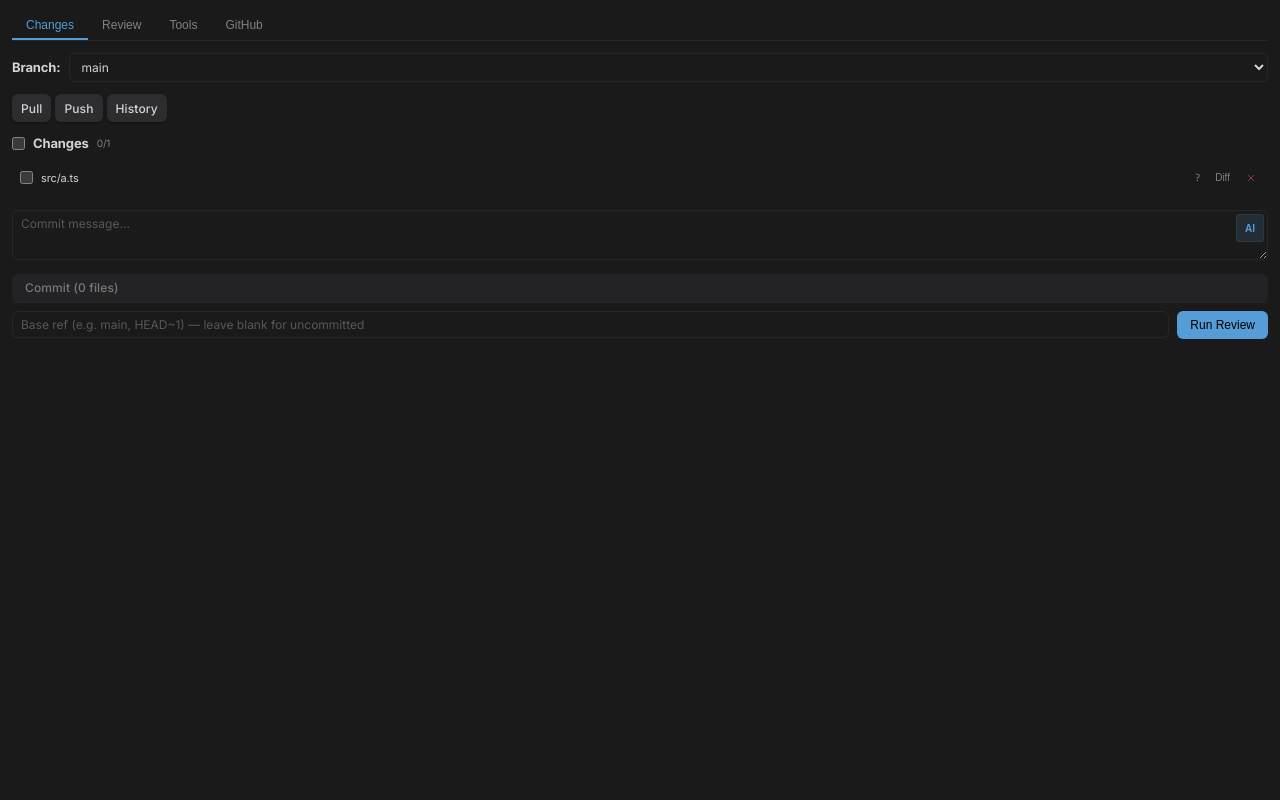
Test case: GitPanel tabs › keeps changelog input across a tab switch
Expected: the heading "Changes" is shown, [33,134,89,154]
Click the tab "Tools": [183, 26] box [155,12,211,40]
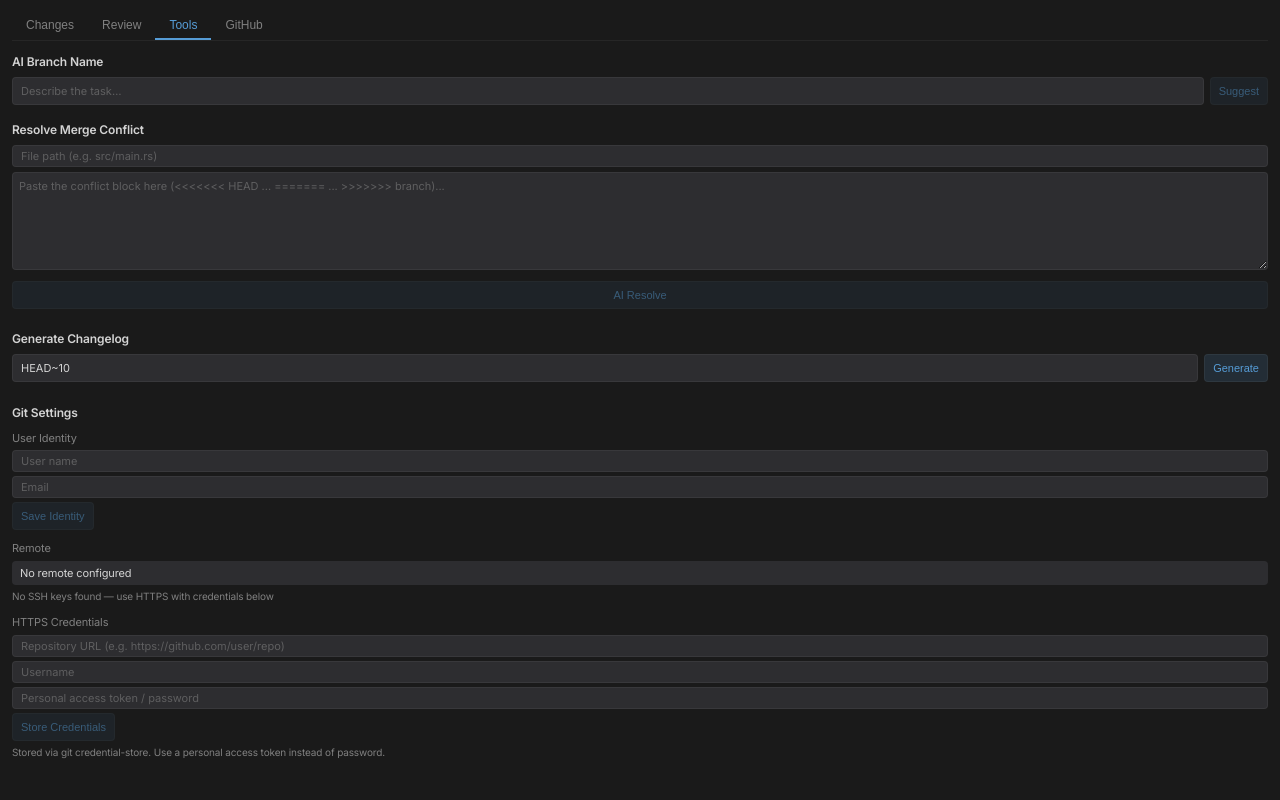
Replace the text in the field with placeholder "since (e.g. HEAD~10 or v1.2.0)" with "v1.2.0": [605, 368] box [12,354,1198,382]
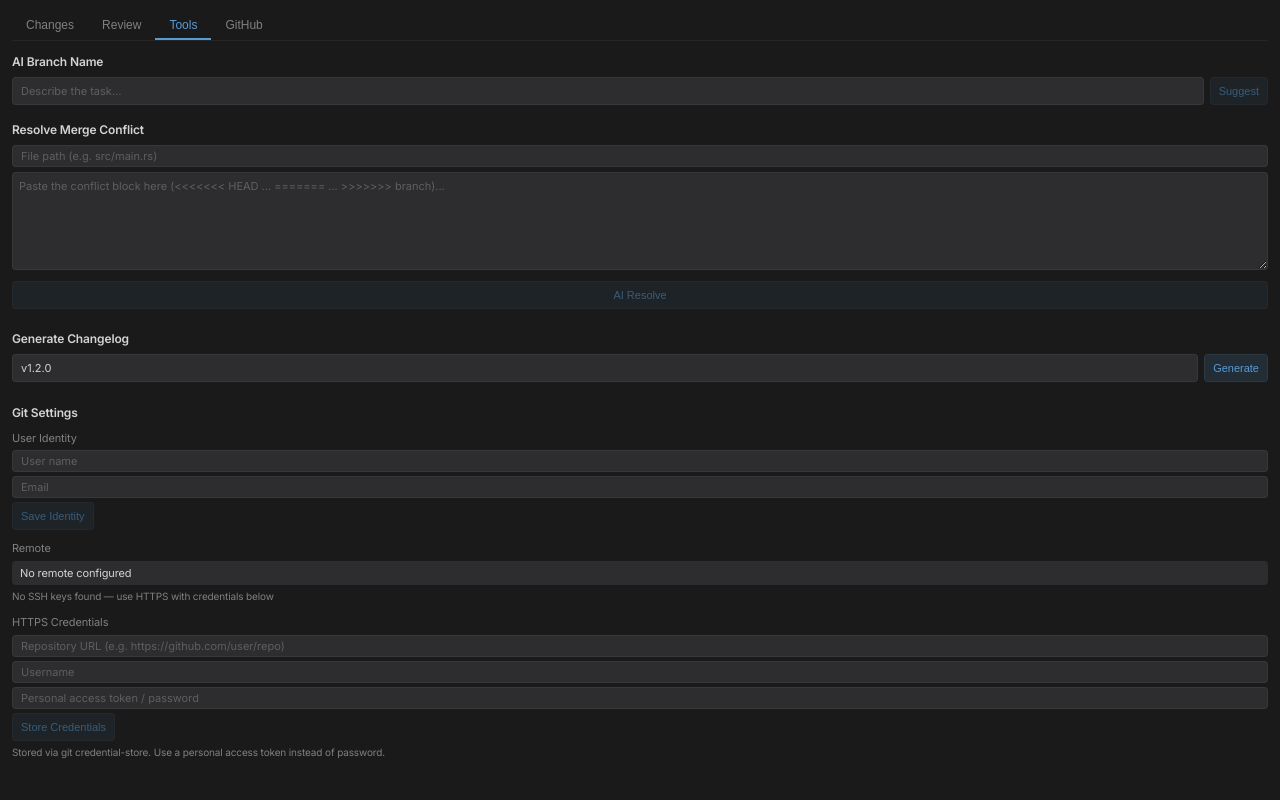
Click the tab "Changes": [50, 26] box [12,12,88,40]
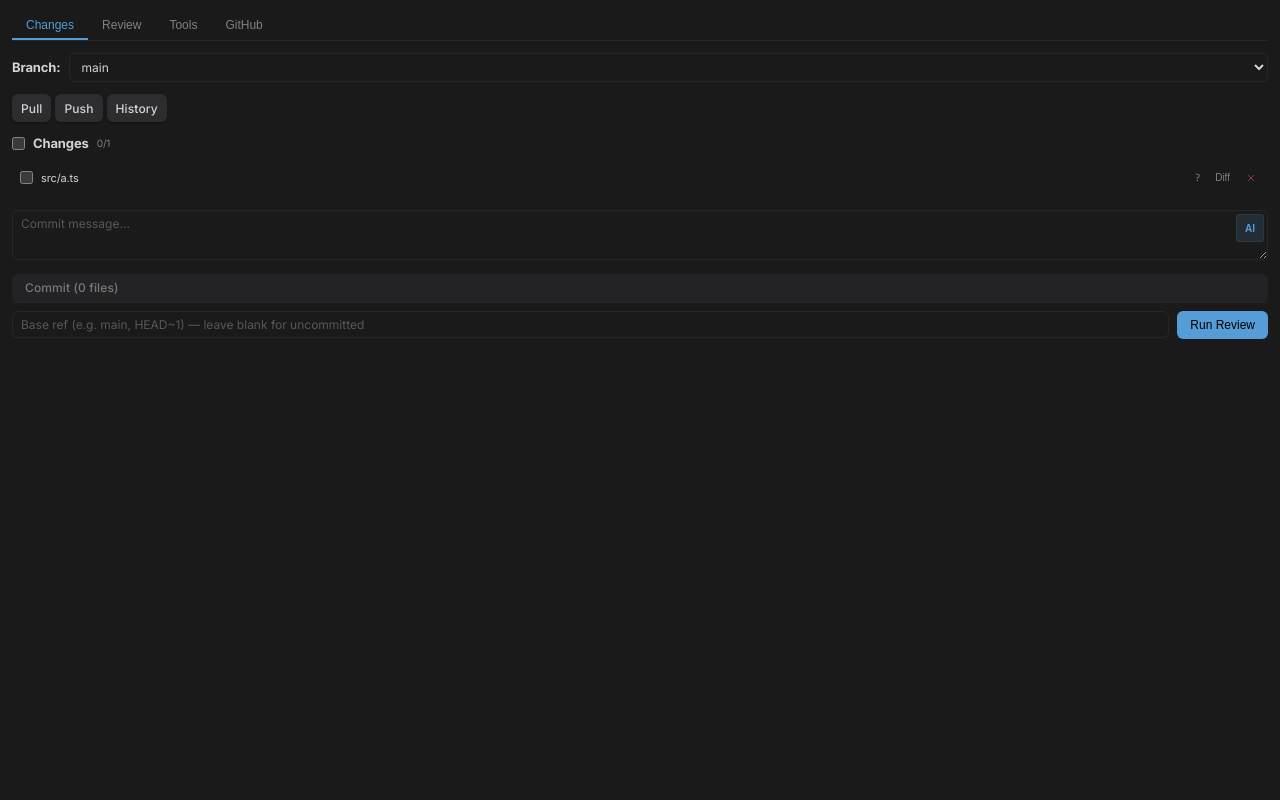
Click the tab "Tools": [183, 26] box [155,12,211,40]
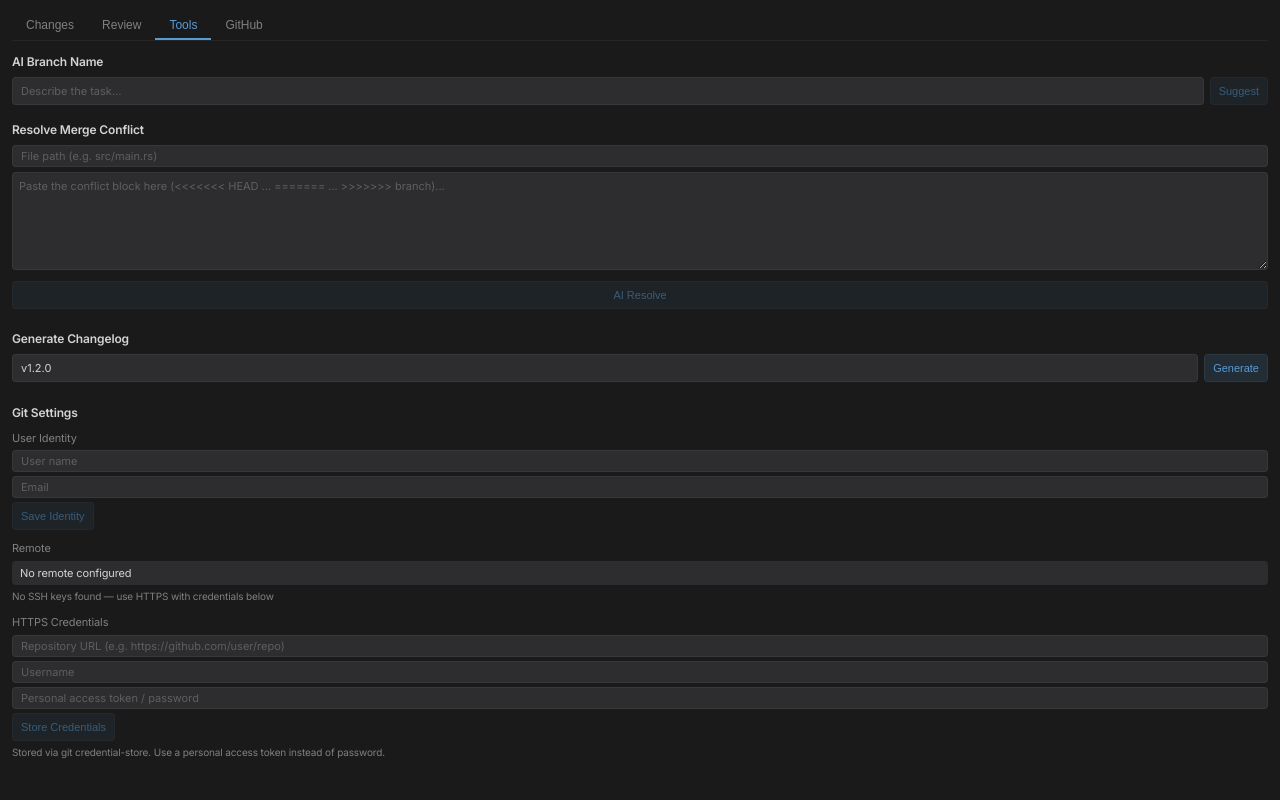
Now the field with placeholder "since (e.g. HEAD~10 or v1.2.0)" holds "v1.2.0", box [12,354,1198,382]
